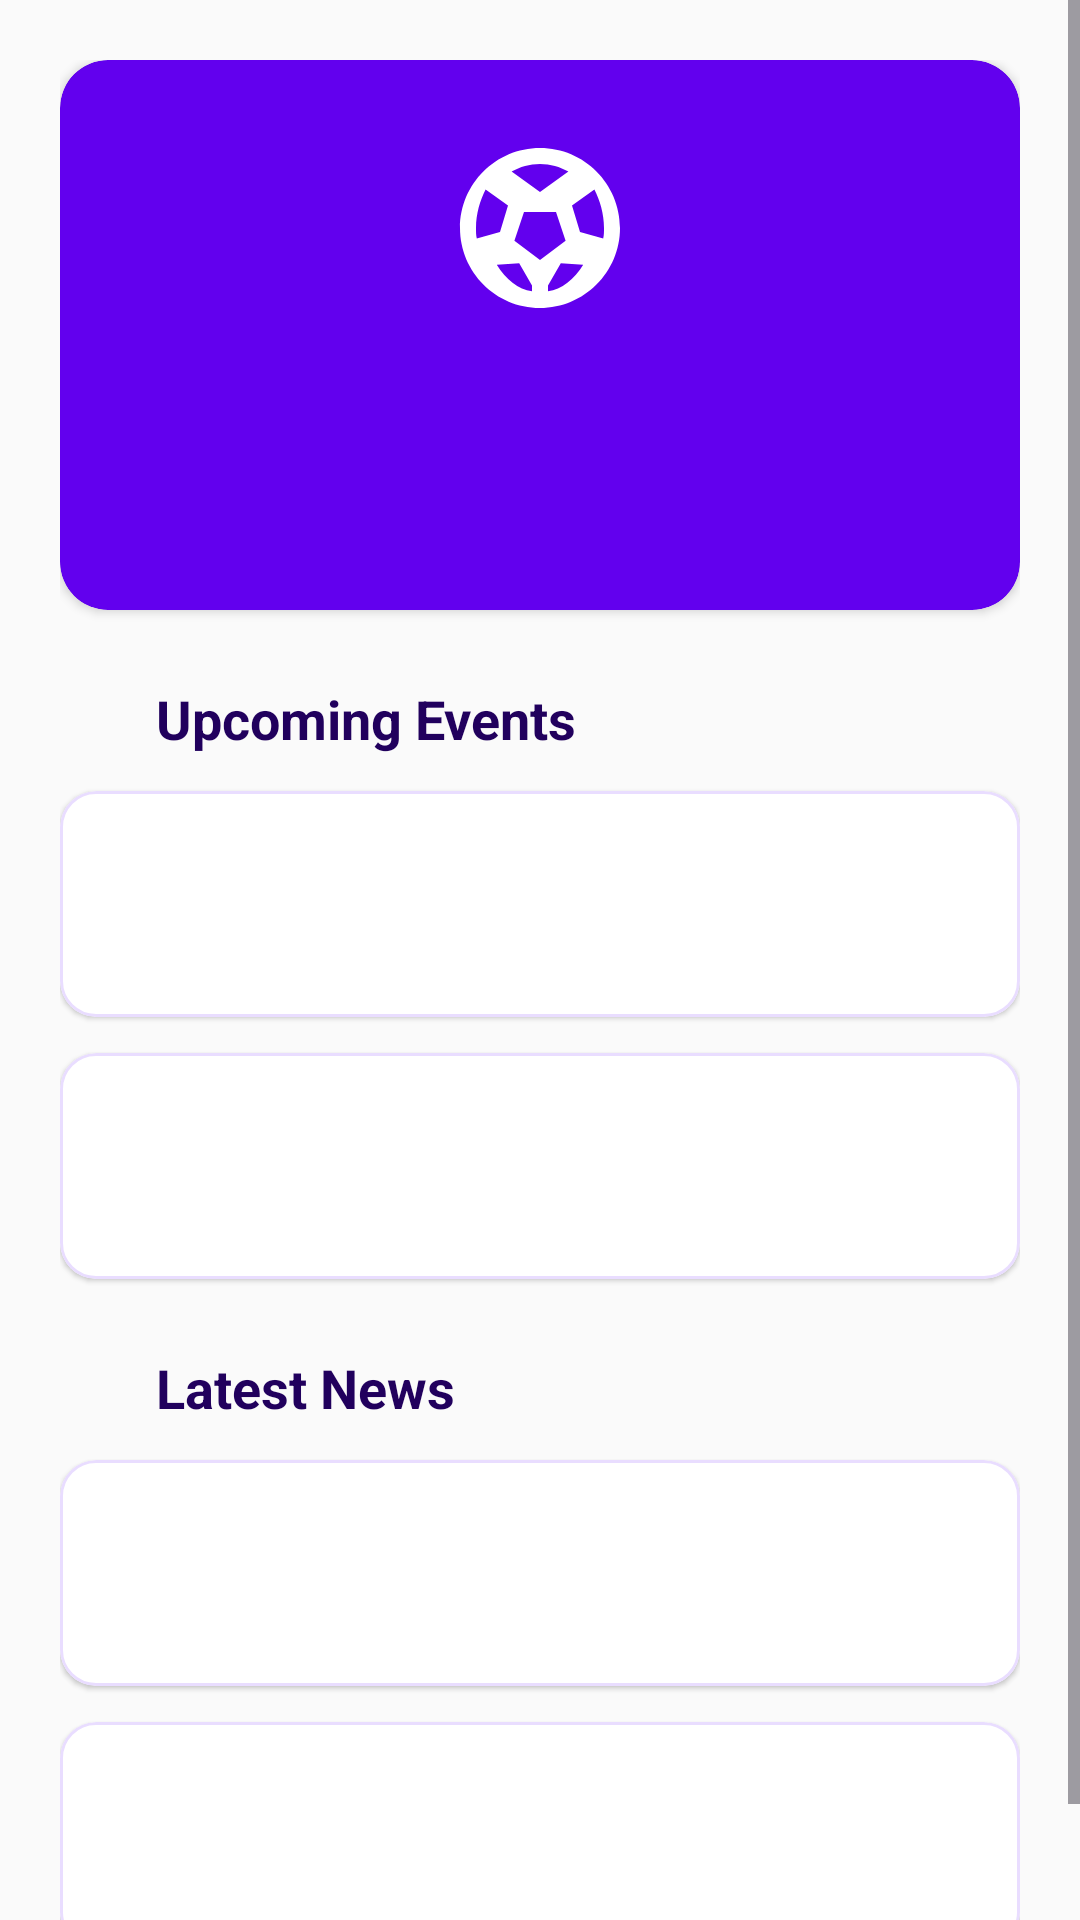

Named icons in this screenshot (1080 x 1920) and their bounding boxes, (x1, y1, x2, y2):
sports: (459, 148, 620, 308)
